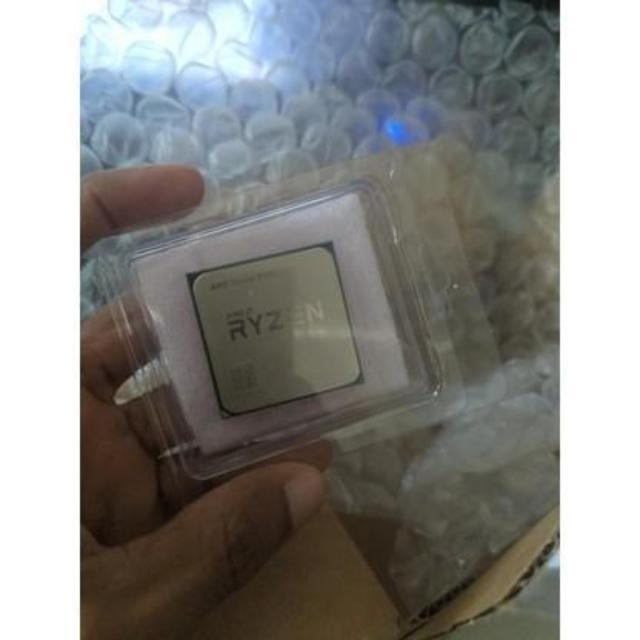CPU: (187, 244, 361, 418)
